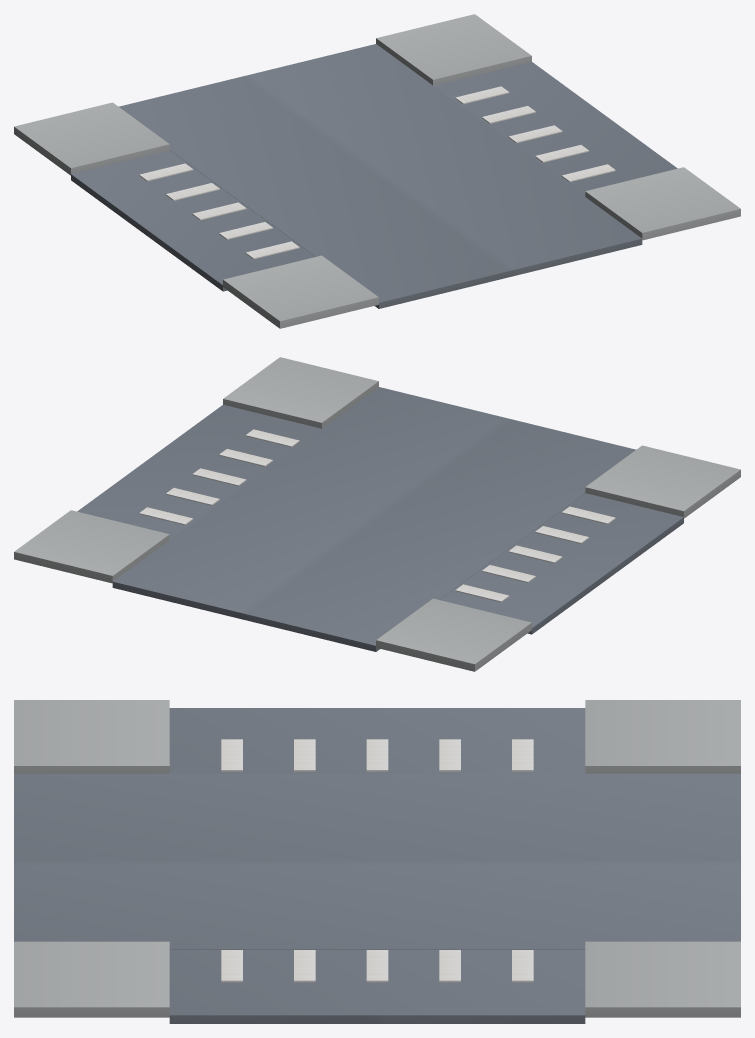
Rendered from road_crossing.glb.
3 views of the same model, one above another, from view 1: azimuth 30°, elevation 25°; view 2: azimuth 150°, elevation 25°; view 3: azimuth 270°, elevation 25° (orthographic). The views are drawn at different scales.
Parts seen in each view (by area): view 1: road_crossing; view 2: road_crossing; view 3: road_crossing.
Boxes of the visible parts, left/top/right/bottom form: road_crossing: left=14, top=14, right=740, bottom=328; road_crossing: left=14, top=357, right=740, bottom=671; road_crossing: left=14, top=700, right=740, bottom=1023.
Size of the model in its own units: 14 by 0.35 by 14.
Materials: 1 (1 with a texture image).
